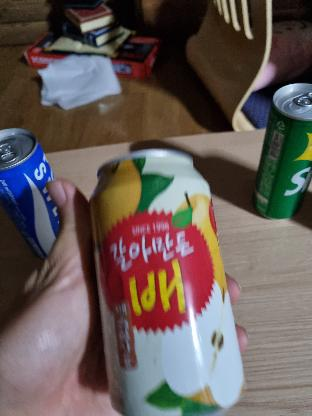Can: (89, 149, 245, 416), (249, 86, 312, 222)
